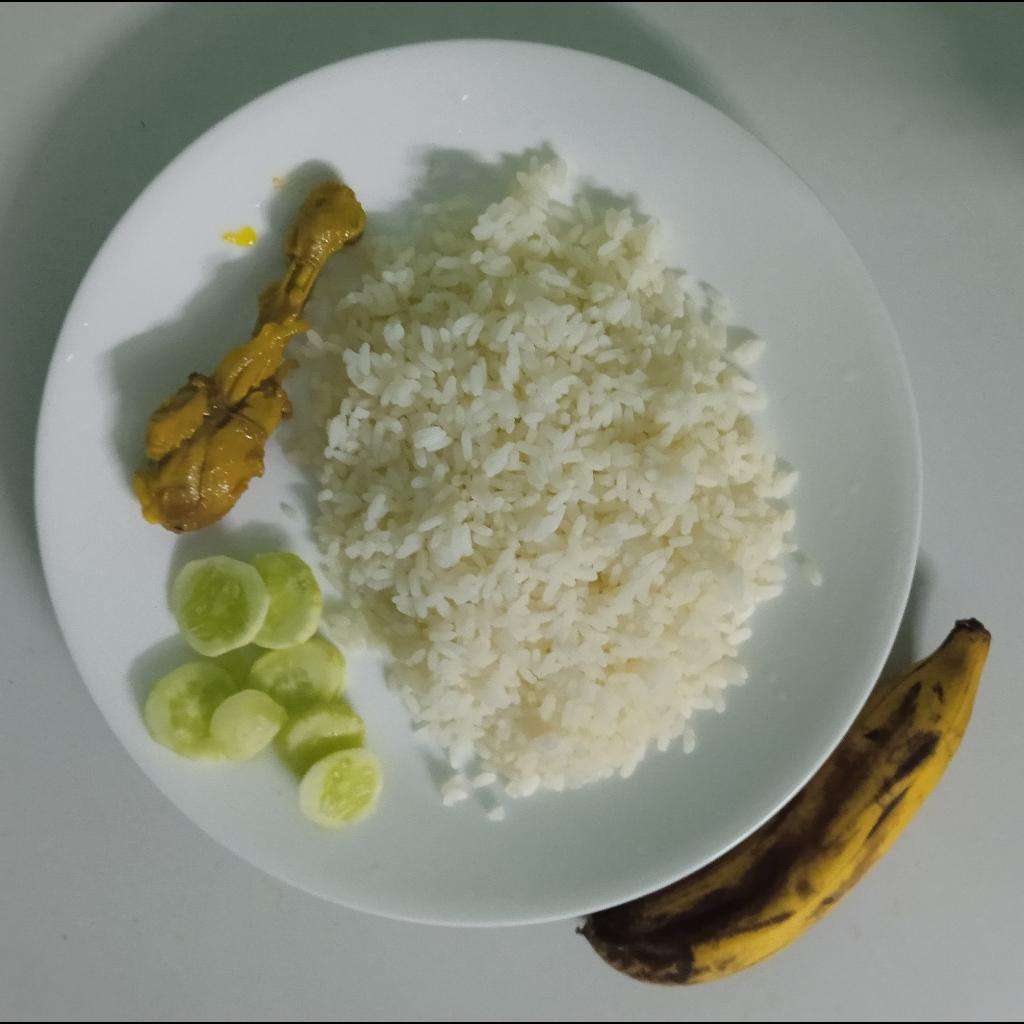banana: (578, 616, 990, 987)
chicken: (132, 183, 366, 534)
cucumber: (143, 552, 384, 830)
rice: (286, 158, 800, 808)
